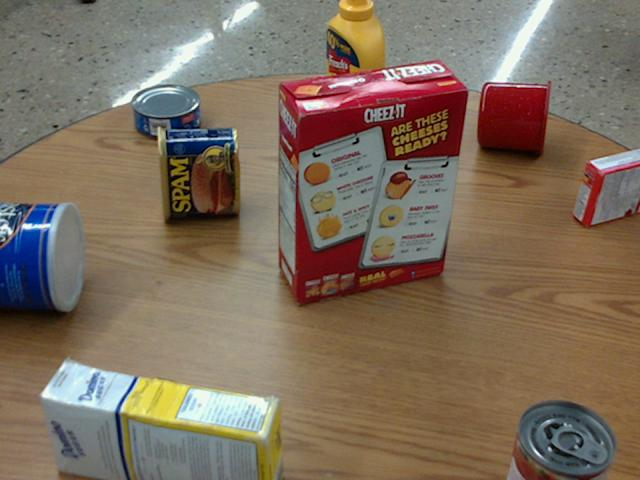cracker_box: (276, 58, 467, 302)
gelatin_box: (574, 150, 639, 227)
master_chef_can: (0, 201, 86, 309)
mug: (477, 78, 549, 154)
mustard_bottle: (324, 0, 383, 145)
potted_meat_can: (156, 125, 238, 218)
sugar_box: (36, 362, 282, 479)
tomato_soup_can: (507, 398, 615, 479)
tuna_fish_can: (132, 82, 200, 137)
